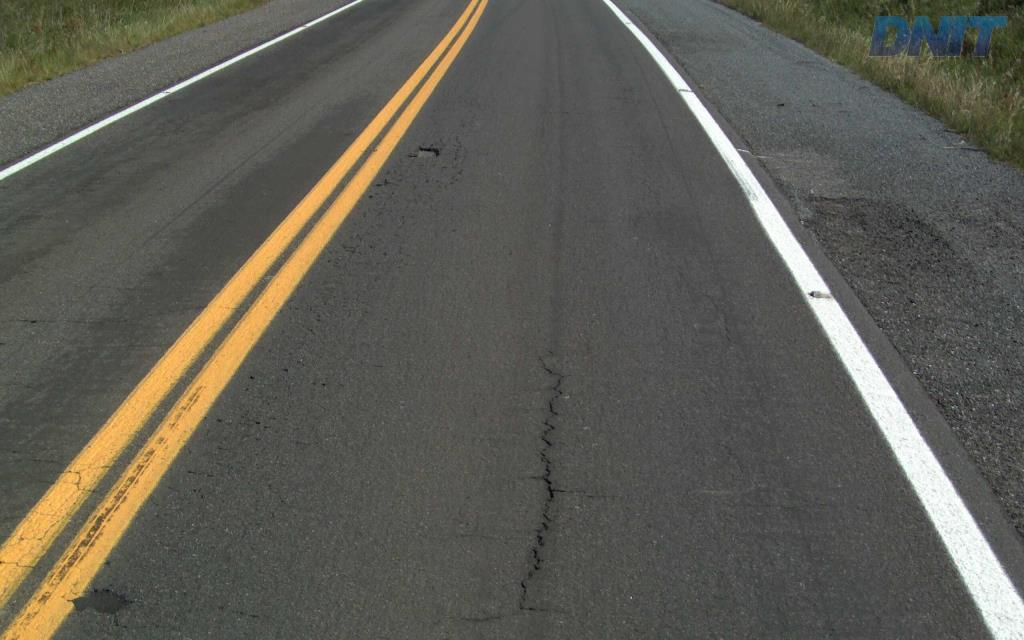crack: (527, 419, 566, 580)
pothole: (403, 142, 444, 164)
